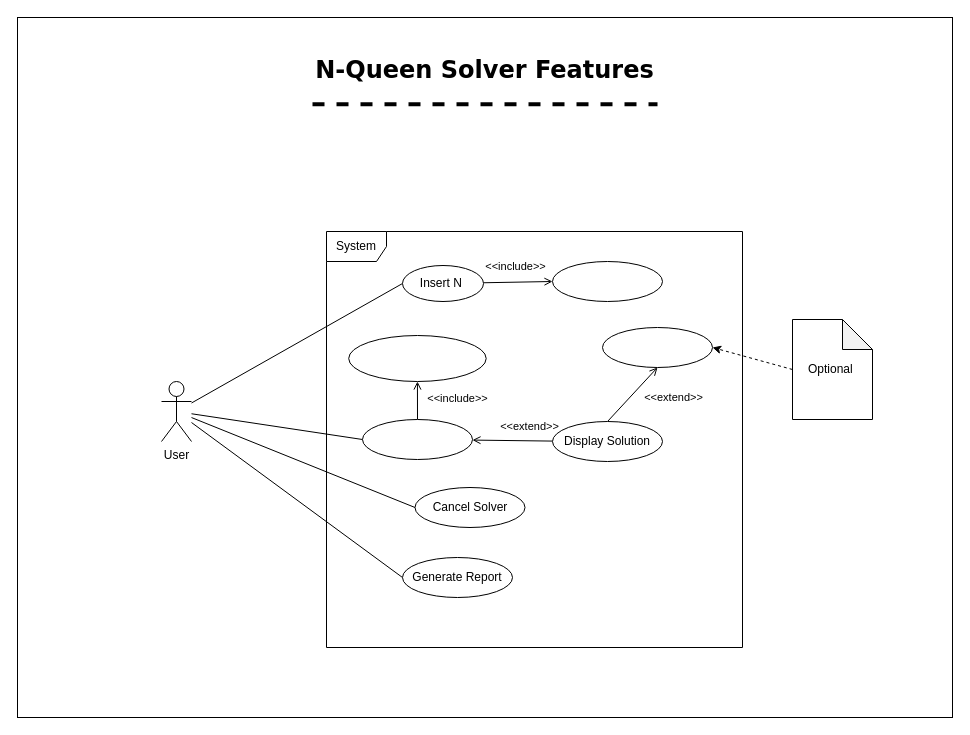
Image size: 970x735. Some labels were removed from this diagram. Here are the shapes that lost their labels. From the top down, the centre of each, then its label:
the point at 607,281: validate N
the point at 417,358: Select Search Stratgy
the point at 657,347: Hover Queen
the point at 417,439: Start Solver
